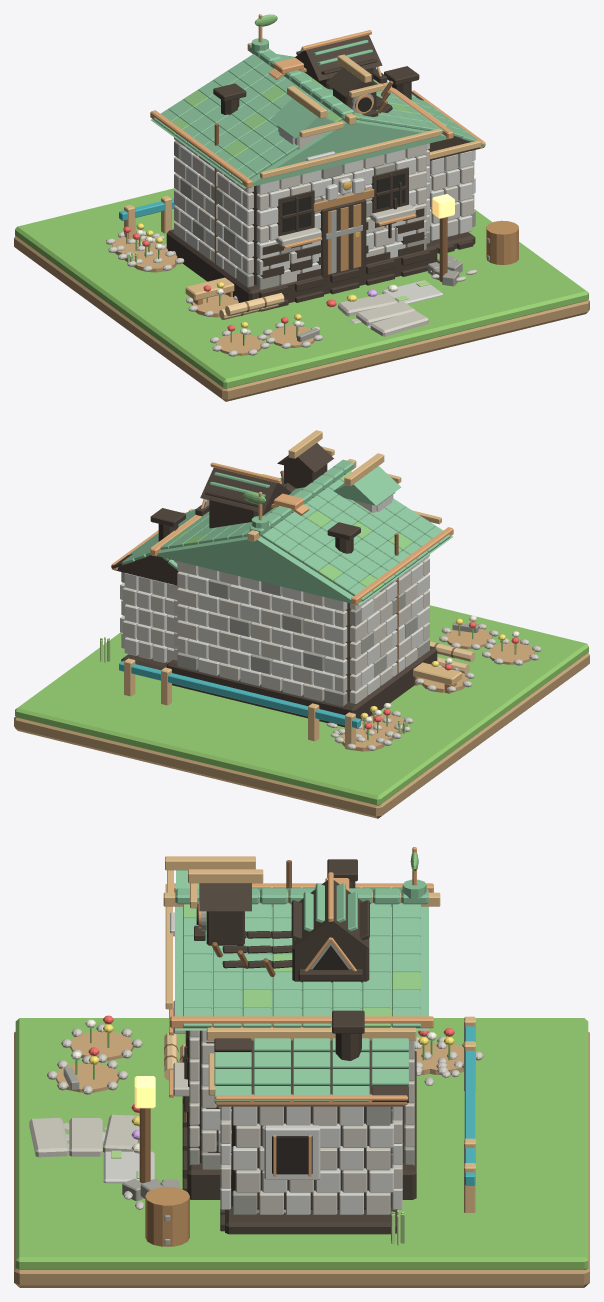
The model's file is stone_house_l03_damaged.glb.
3 views of the same model, one above another, from view 1: azimuth 30°, elevation 25°; view 2: azimuth 150°, elevation 25°; view 3: azimuth 270°, elevation 25° (orthographic). The views are drawn at different scales.
Parts seen in each view (by area): view 1: stone_house_component_pilot_grass_tile.004, stone_house_component_pilot_earth_tile.004, pilot_stone_house_l03_roof_gable_roof.001, pilot_stone_house_l03_spec_stone_block_medium_medium_foundat, pilot_stone_house_l03_side_dormer_green_gable.001, pilot_stone_house_l03_stone_door.001, pilot_stone_house_l03_roof_roof_front_trim.001, pilot_stone_house_l03_yard_barrel_barrel_body.001, pilot_stone_house_l03_roof_dormer_gable_roof.001, pilot_stone_house_l03_roof_eave_-1.001, stone_house_component_pilot_path_stone_03.004, pilot_stone_house_l03_stone_l_window_pane.001 (+17 smaller); view 2: stone_house_component_pilot_grass_tile.004, stone_house_component_pilot_earth_tile.004, pilot_stone_house_l03_roof_gable_roof.001, pilot_stone_house_l03_spec_stone_block_medium_medium_foundat, pilot_stone_house_l03_yard_fence_rail.001, pilot_stone_house_l03_side_dormer_green_gable.001, pilot_stone_house_l03_roof_dormer_gable_roof.001, pilot_stone_house_l03_side_dormer_stone_cheek.001, pilot_stone_house_l03_right_annex_roof_gable_roof.001, pilot_stone_house_l03_roof_eave_-1.001, pilot_stone_house_l03_round_attic_window_little_green_roof_g, pilot_stone_house_l03_flowers_planted_bed_0_ring_soil.001 (+4 smaller); view 3: stone_house_component_pilot_grass_tile.004, stone_house_component_pilot_earth_tile.004, pilot_stone_house_l03_right_annex_foundation_stone_block_low, pilot_stone_house_l03_roof_gable_roof.001, pilot_stone_house_l03_yard_barrel_barrel_body.001, pilot_stone_house_l03_right_annex_roof_roof_ridge.001, pilot_stone_house_l03_spec_stone_block_medium_medium_foundat, pilot_stone_house_l03_side_dormer_green_gable.001, pilot_stone_house_l03_roof_eave_+1.001, pilot_stone_house_l03_right_annex_roof_copper_gutter.001, pilot_stone_house_l03_right_annex_side_window_stone_frame.00, pilot_stone_house_l03_yard_fence_rail.001 (+47 smaller).
Boxes of the visible parts, x1,y1,x2,y2 form: stone_house_component_pilot_grass_tile.004: (15,188,588,388); stone_house_component_pilot_earth_tile.004: (14,236,589,401); pilot_stone_house_l03_roof_gable_roof.001: (151,54,447,188); pilot_stone_house_l03_spec_stone_block_medium_medium_foundat: (166,229,437,302); pilot_stone_house_l03_side_dormer_green_gable.001: (294,35,382,80); pilot_stone_house_l03_stone_door.001: (320,199,366,277); pilot_stone_house_l03_roof_roof_front_trim.001: (260,128,441,178); pilot_stone_house_l03_yard_barrel_barrel_body.001: (486,220,518,264); pilot_stone_house_l03_roof_dormer_gable_roof.001: (270,98,335,138); pilot_stone_house_l03_roof_eave_-1.001: (150,110,252,188); stone_house_component_pilot_path_stone_03.004: (370,310,428,336); pilot_stone_house_l03_stone_l_window_pane.001: (282,195,311,231); stone_house_component_pilot_grass_tile.004: (15,605,588,805); stone_house_component_pilot_earth_tile.004: (14,653,589,818); pilot_stone_house_l03_roof_gable_roof.001: (156,471,452,605); pilot_stone_house_l03_spec_stone_block_medium_medium_foundat: (166,646,437,727); pilot_stone_house_l03_yard_fence_rail.001: (119,661,360,728); pilot_stone_house_l03_side_dormer_green_gable.001: (200,467,291,513); pilot_stone_house_l03_roof_dormer_gable_roof.001: (333,466,401,505); pilot_stone_house_l03_side_dormer_stone_cheek.001: (209,497,273,528); pilot_stone_house_l03_right_annex_roof_gable_roof.001: (113,555,178,585); pilot_stone_house_l03_roof_eave_-1.001: (351,527,453,605); pilot_stone_house_l03_round_attic_window_little_green_roof_g: (277,443,333,472); pilot_stone_house_l03_flowers_planted_bed_0_ring_soil.001: (488,642,534,664); stone_house_component_pilot_grass_tile.004: (15,1018,588,1269); stone_house_component_pilot_earth_tile.004: (14,1032,589,1287); pilot_stone_house_l03_right_annex_foundation_stone_block_low: (225,1189,397,1234); pilot_stone_house_l03_roof_gable_roof.001: (175,906,428,1030); pilot_stone_house_l03_yard_barrel_barrel_body.001: (145,1187,189,1246); pilot_stone_house_l03_right_annex_roof_roof_ridge.001: (206,1027,416,1040); pilot_stone_house_l03_spec_stone_block_medium_medium_foundat: (187,1050,416,1199); pilot_stone_house_l03_side_dormer_green_gable.001: (292,880,369,948); pilot_stone_house_l03_roof_eave_+1.001: (170,1016,433,1028); pilot_stone_house_l03_right_annex_roof_copper_gutter.001: (215,1094,407,1104); pilot_stone_house_l03_right_annex_side_window_stone_frame.00: (264,1125,320,1179); pilot_stone_house_l03_yard_fence_rail.001: (464,1026,475,1185).
Size of the model in its own units: 3.6 by 2.22 by 3.6.
